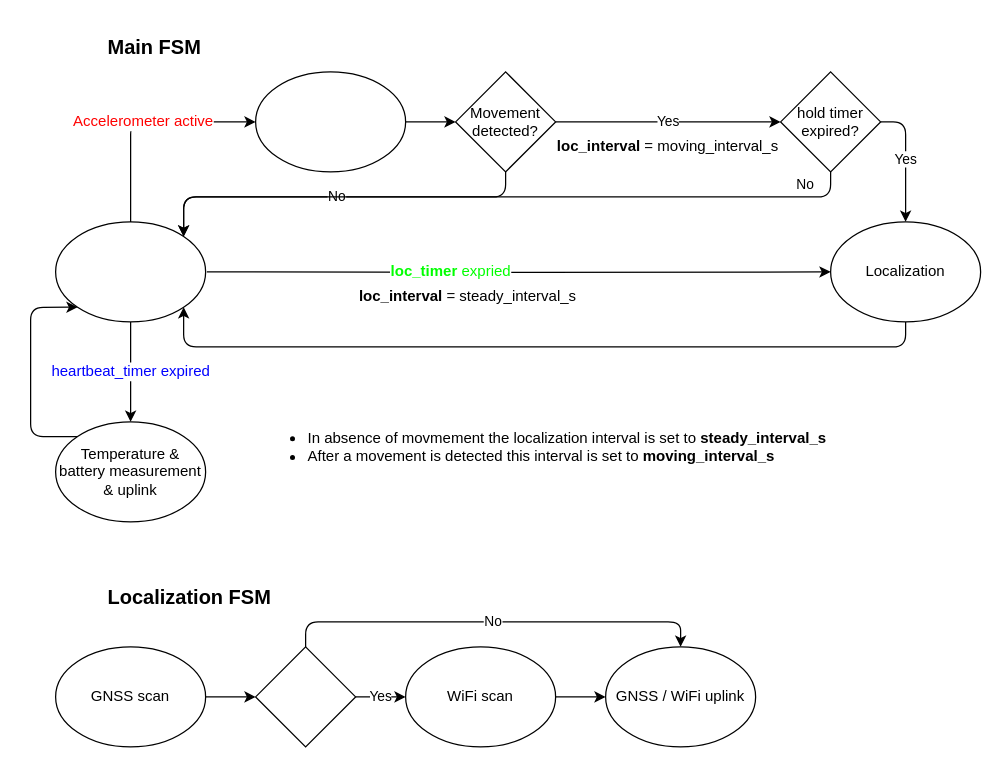
The diagram is 1003 pixels wide and 769 high, and some of its shapes have lost their labels. Each missing label, with the box of its shape:
Idle state: (54, 221, 206, 322)
Indoor detected?: (254, 646, 356, 747)
Movement detection: (254, 71, 406, 172)
